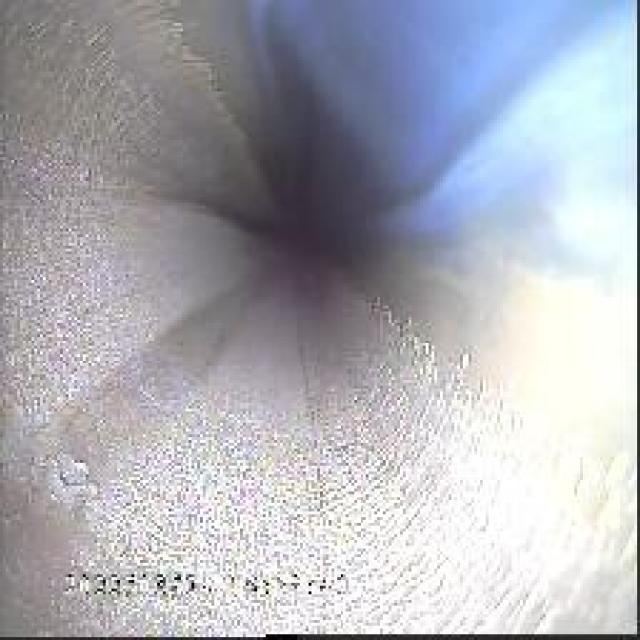ferrule: (43, 446, 94, 503)
